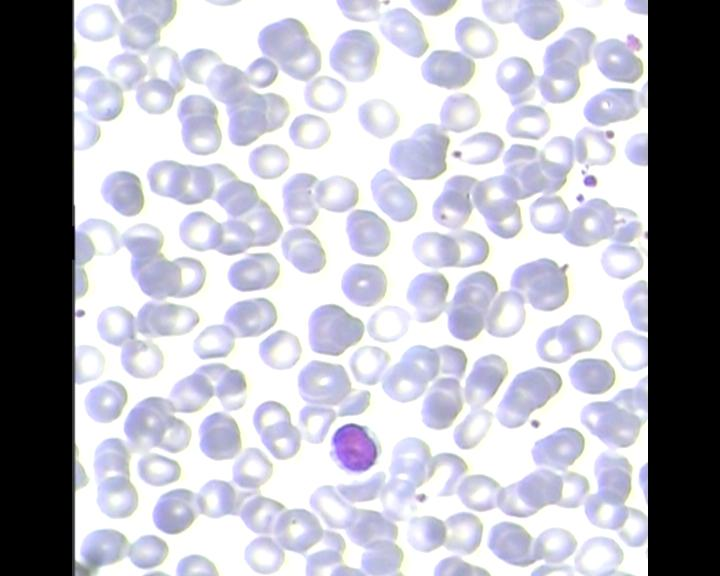lymp: (326, 423, 388, 476)
